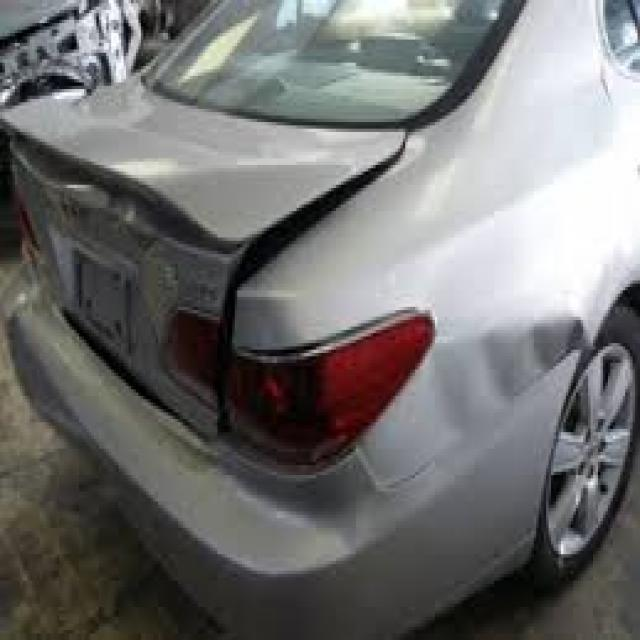damaged-trunk: (4, 85, 396, 429)
